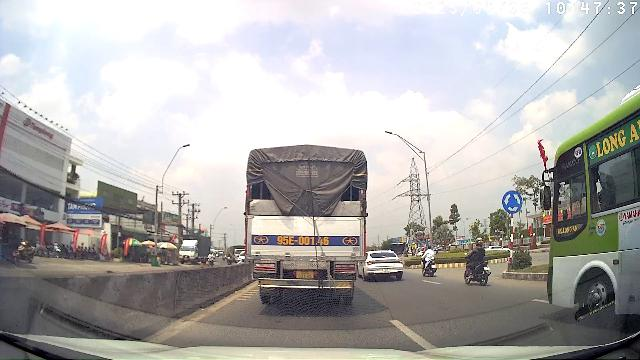303-noi-giao-nhau-chay-theo-vong-xuyen: (501, 189, 523, 214)
